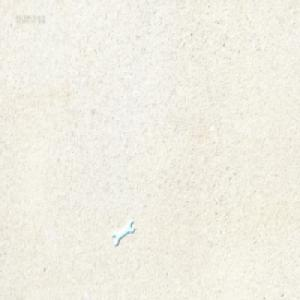Wrench: (112, 219, 134, 247)
